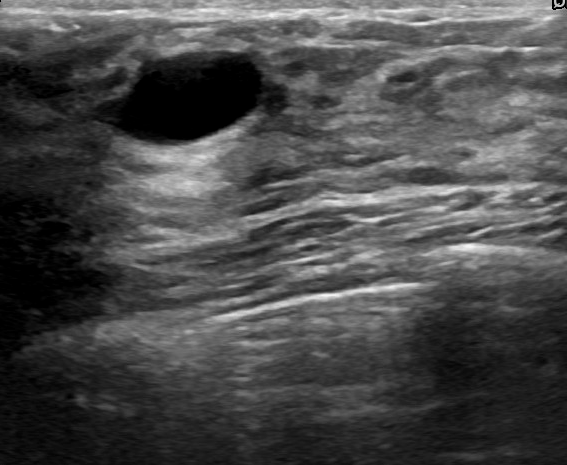Benign: (107, 46, 261, 146)
